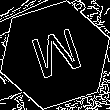M_S: (24, 24, 86, 86)
